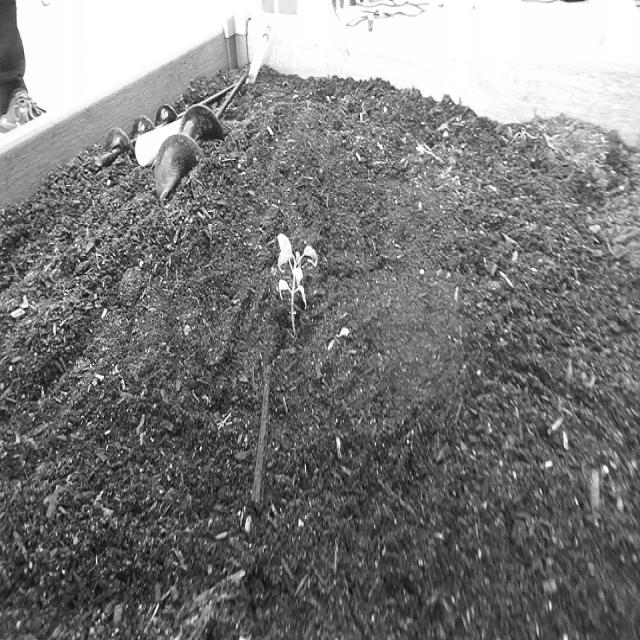Healthy: (264, 219, 332, 360)
